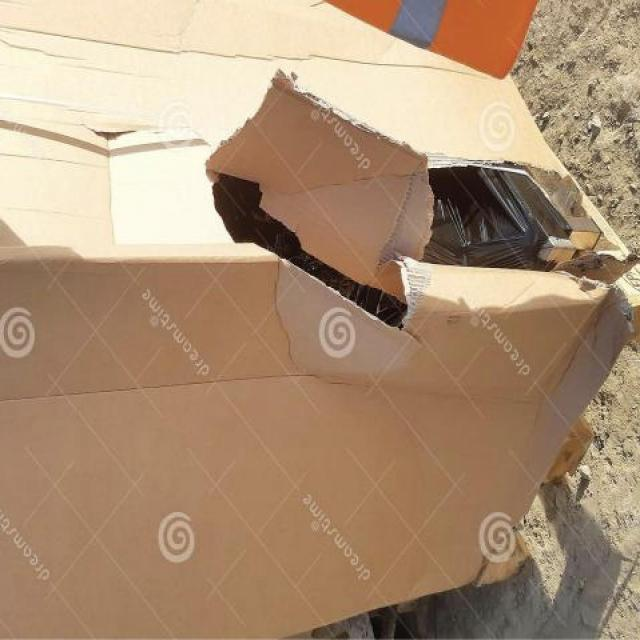damaged: (185, 119, 605, 349)
